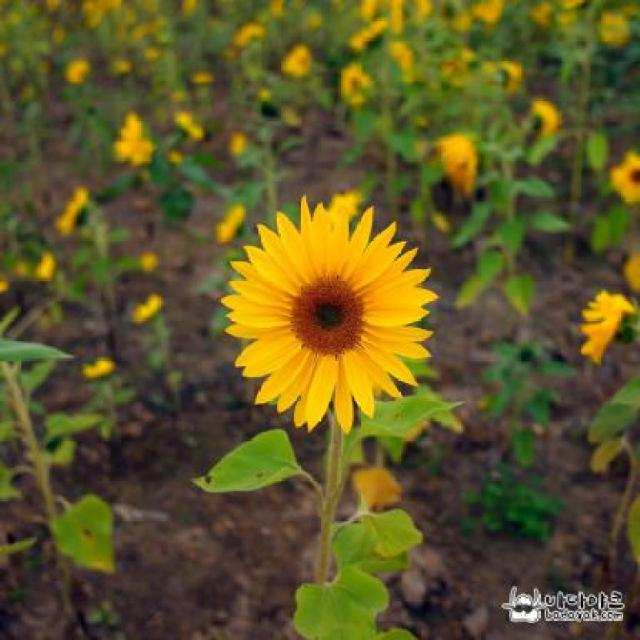sunflower: (217, 195, 452, 438)
